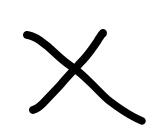mult: (23, 28, 146, 125)
